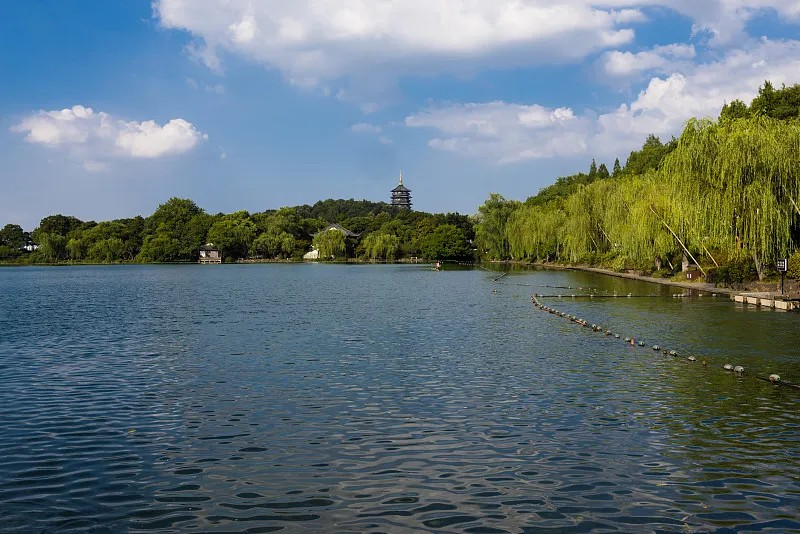Leifeng: (388, 170, 413, 211)
